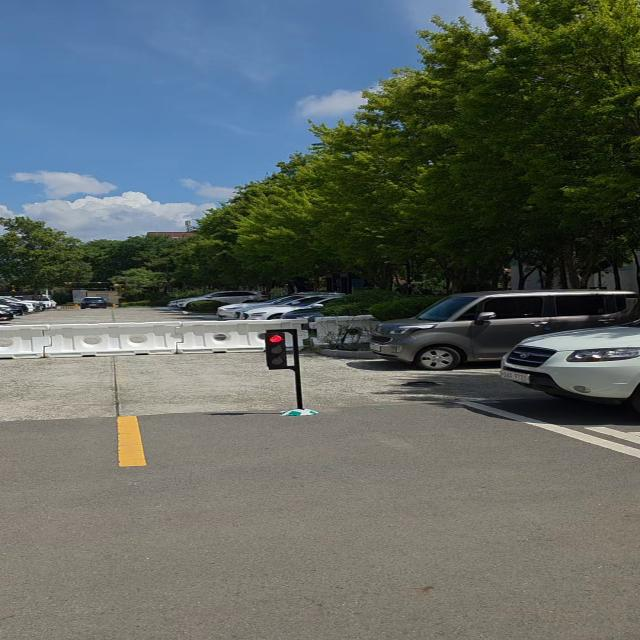red: (264, 332, 293, 368)
